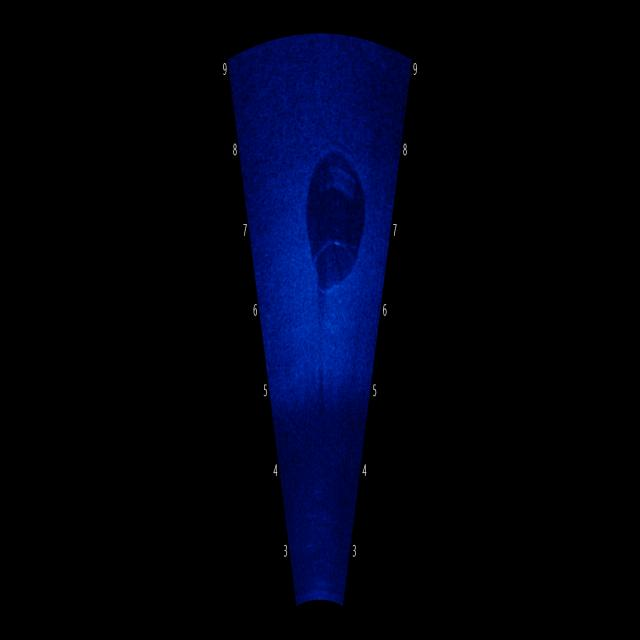circle: (299, 114, 369, 310)
